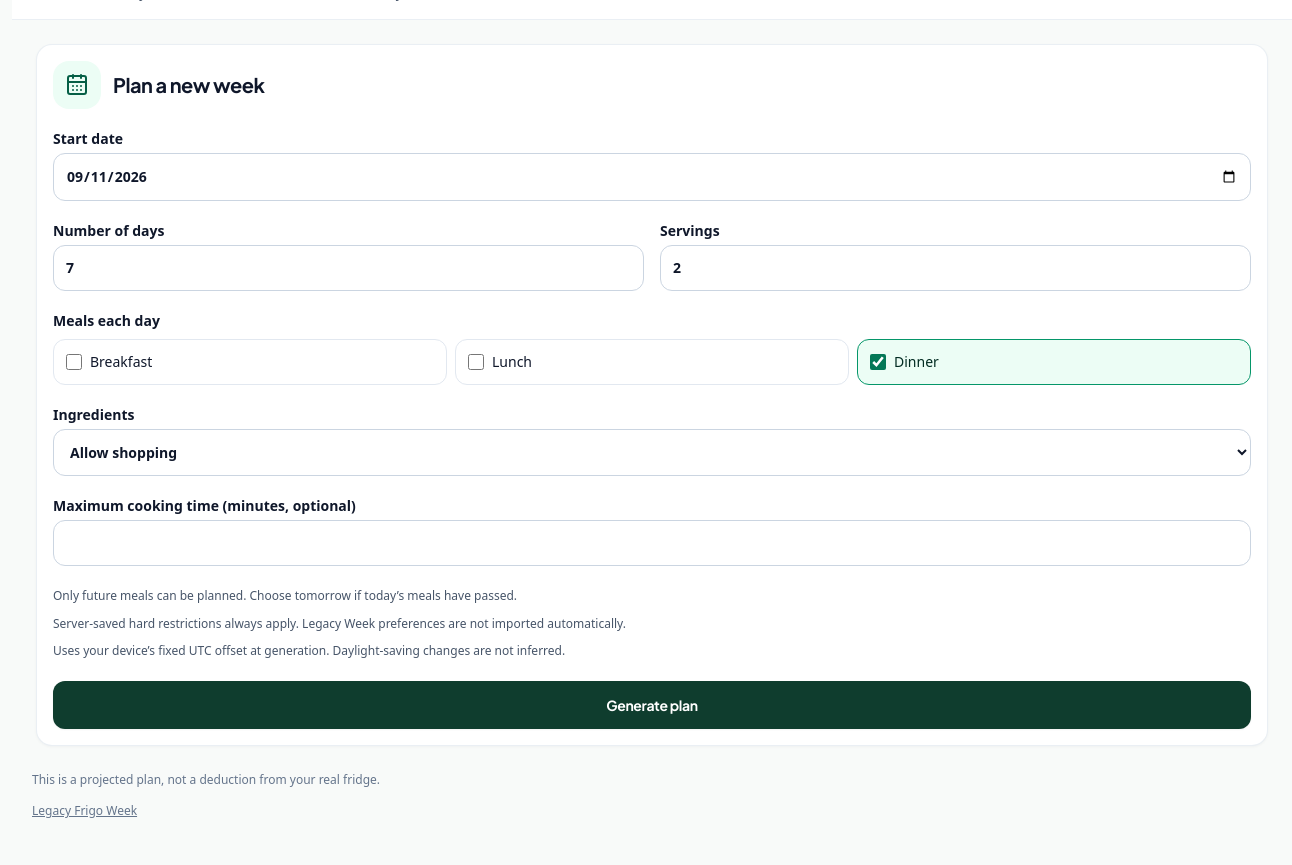
Test: mounted planner mutation interactions › an explicit generation retry after network failure retains its key and exact intent
(page scrolled)
Click the button "Generate plan": (652, 705) [53,681,1251,729]
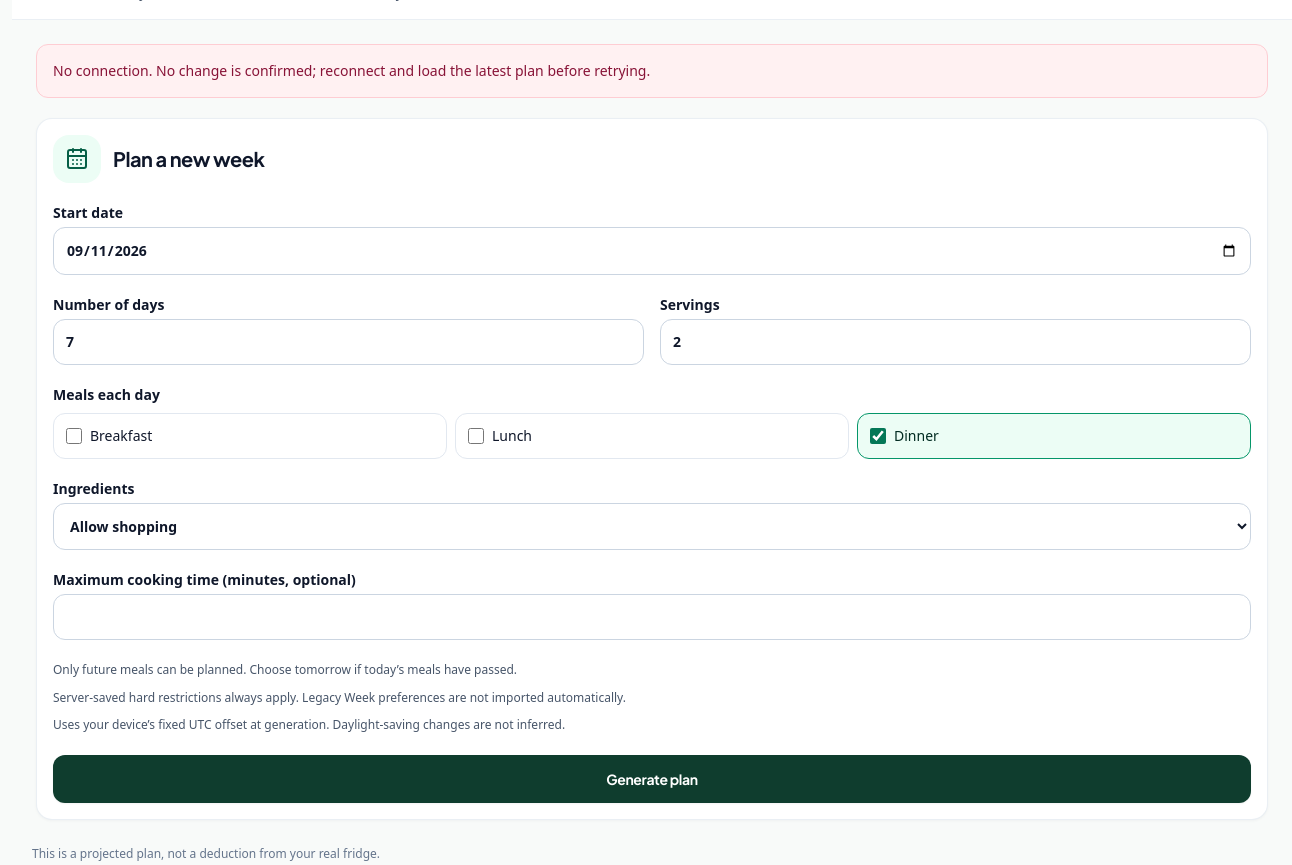
Expected: the message is shown, [36,44,1268,98]
Click the button "Generate plan": (652, 779) [53,755,1251,803]
(page scrolled)
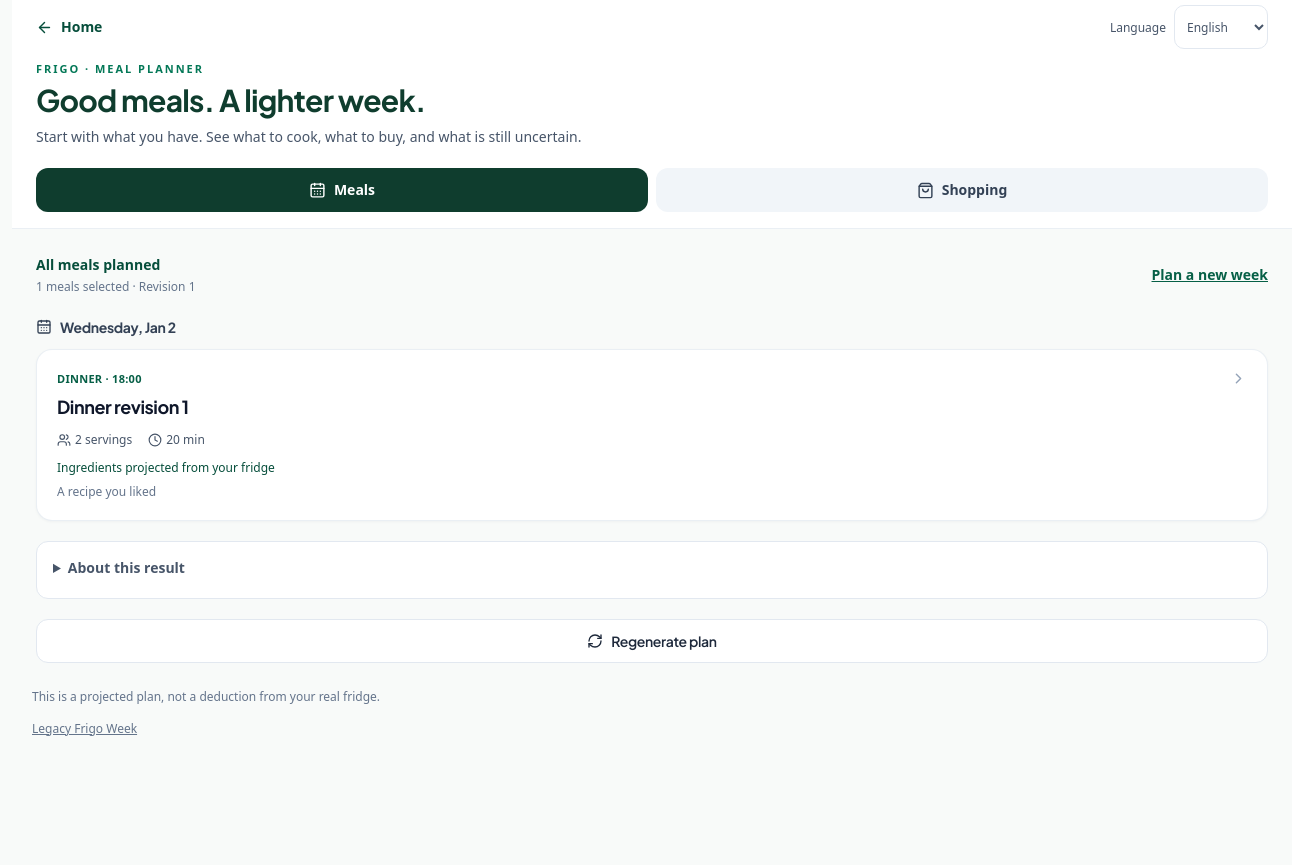
Expected: the message is gone
